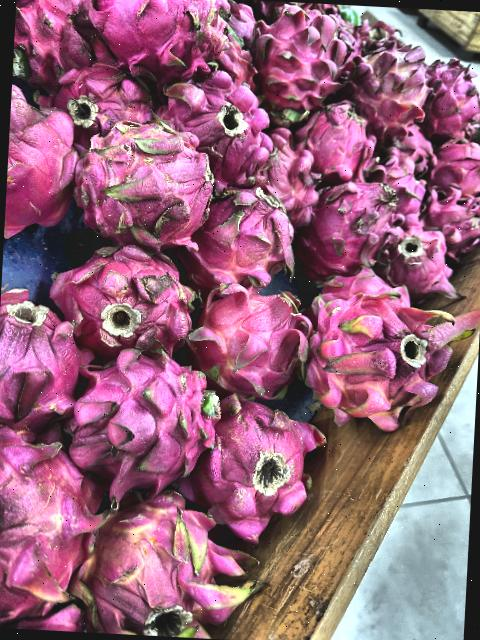buah-naga-belum-matang: (88, 485, 257, 640), (349, 37, 430, 126)
buah-naga-matang: (60, 338, 216, 484), (68, 108, 213, 248), (0, 417, 96, 623), (305, 286, 450, 422), (58, 230, 194, 350), (188, 266, 311, 393), (208, 396, 318, 530), (158, 65, 274, 178), (0, 281, 77, 425), (192, 185, 295, 291), (5, 87, 79, 230), (84, 0, 233, 69), (255, 2, 348, 110), (306, 165, 392, 264), (50, 64, 154, 128), (379, 217, 460, 296), (14, 0, 91, 77), (256, 128, 319, 221), (306, 99, 373, 177), (421, 54, 480, 140), (419, 129, 480, 195), (374, 119, 435, 172)
